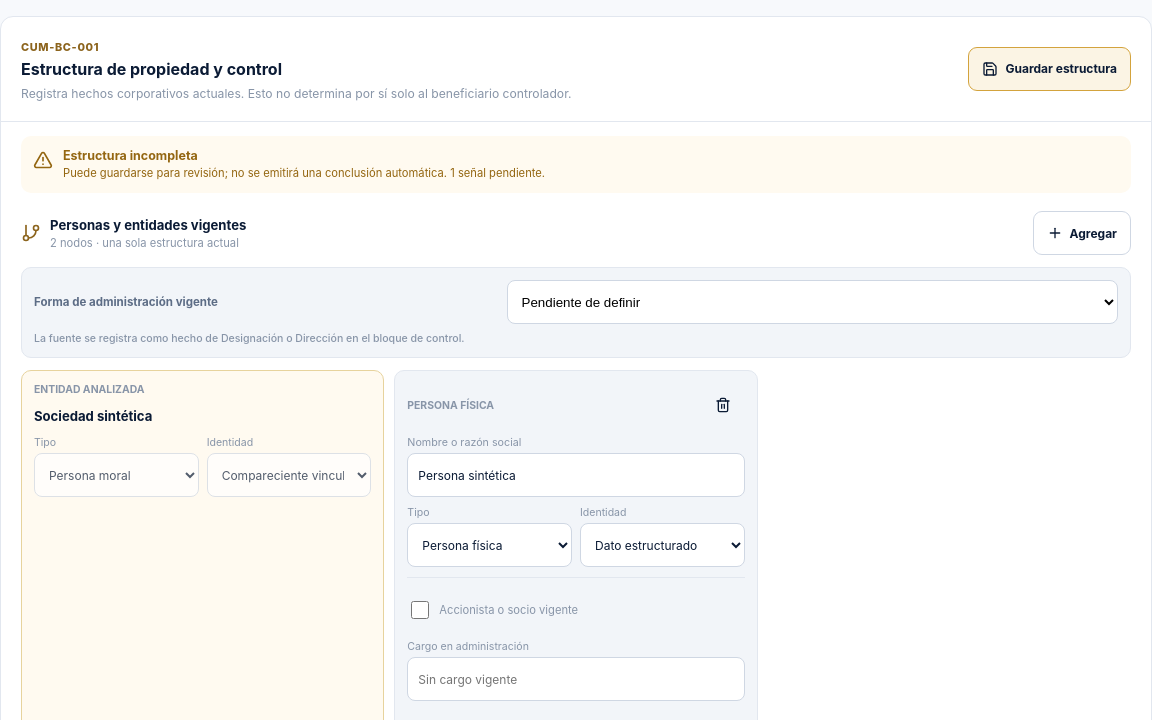
Test: H4 CUM-BC-001 frontend › F006 shows previous PF facts before canonical confirmation
The image size is (1152, 720).
Click the button "Guardar estructura" at (1050, 69), box [968,47,1131,91]
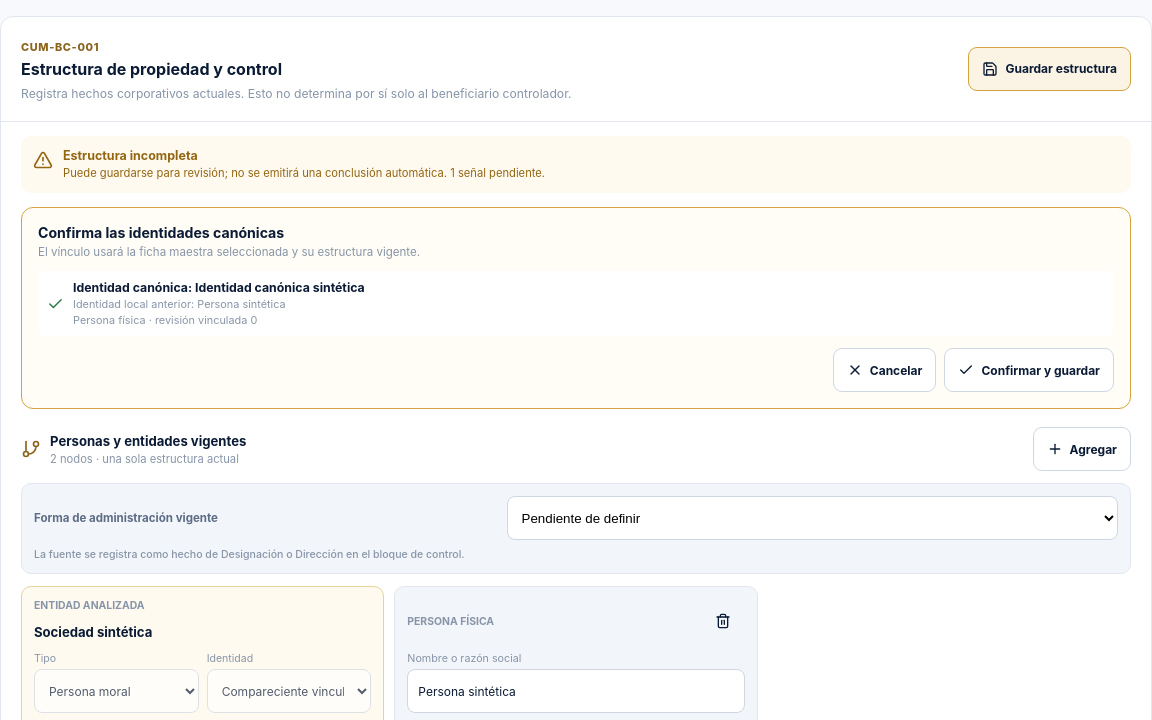
expect the text "Identidad local anterior: Persona sintética" is shown: met, box [73,297,286,311]
expect the text "Identidad canónica: Identidad canónica sintética" is shown: met, box [73,280,365,295]
